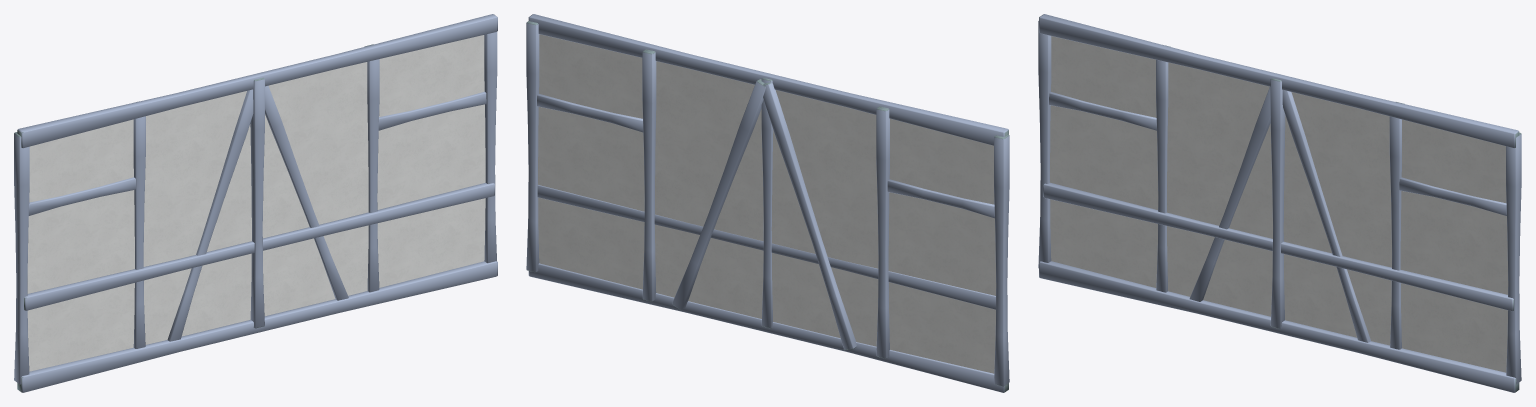
Rendered from PlasterWall_Rect.fbx.
The picture shows the model from 3 angles, left to right: view 1: azimuth 30°, elevation 25°; view 2: azimuth 150°, elevation 25°; view 3: azimuth 330°, elevation 25°; orthographic projection.
Parts seen in each view (by area): view 1: PlasterWall_Rect; view 2: PlasterWall_Rect; view 3: PlasterWall_Rect.
Boxes of the visible parts, x1,y1,x2,y2 form: PlasterWall_Rect: [14, 14, 497, 392]; PlasterWall_Rect: [526, 14, 1009, 392]; PlasterWall_Rect: [1038, 14, 1521, 392].
Size of the model in its own units: 8.18 by 4.27 by 0.2487.
